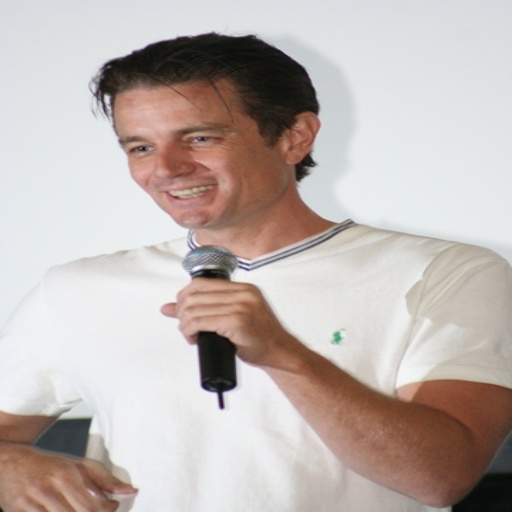hand: (157, 274, 292, 367), (0, 443, 136, 510)
